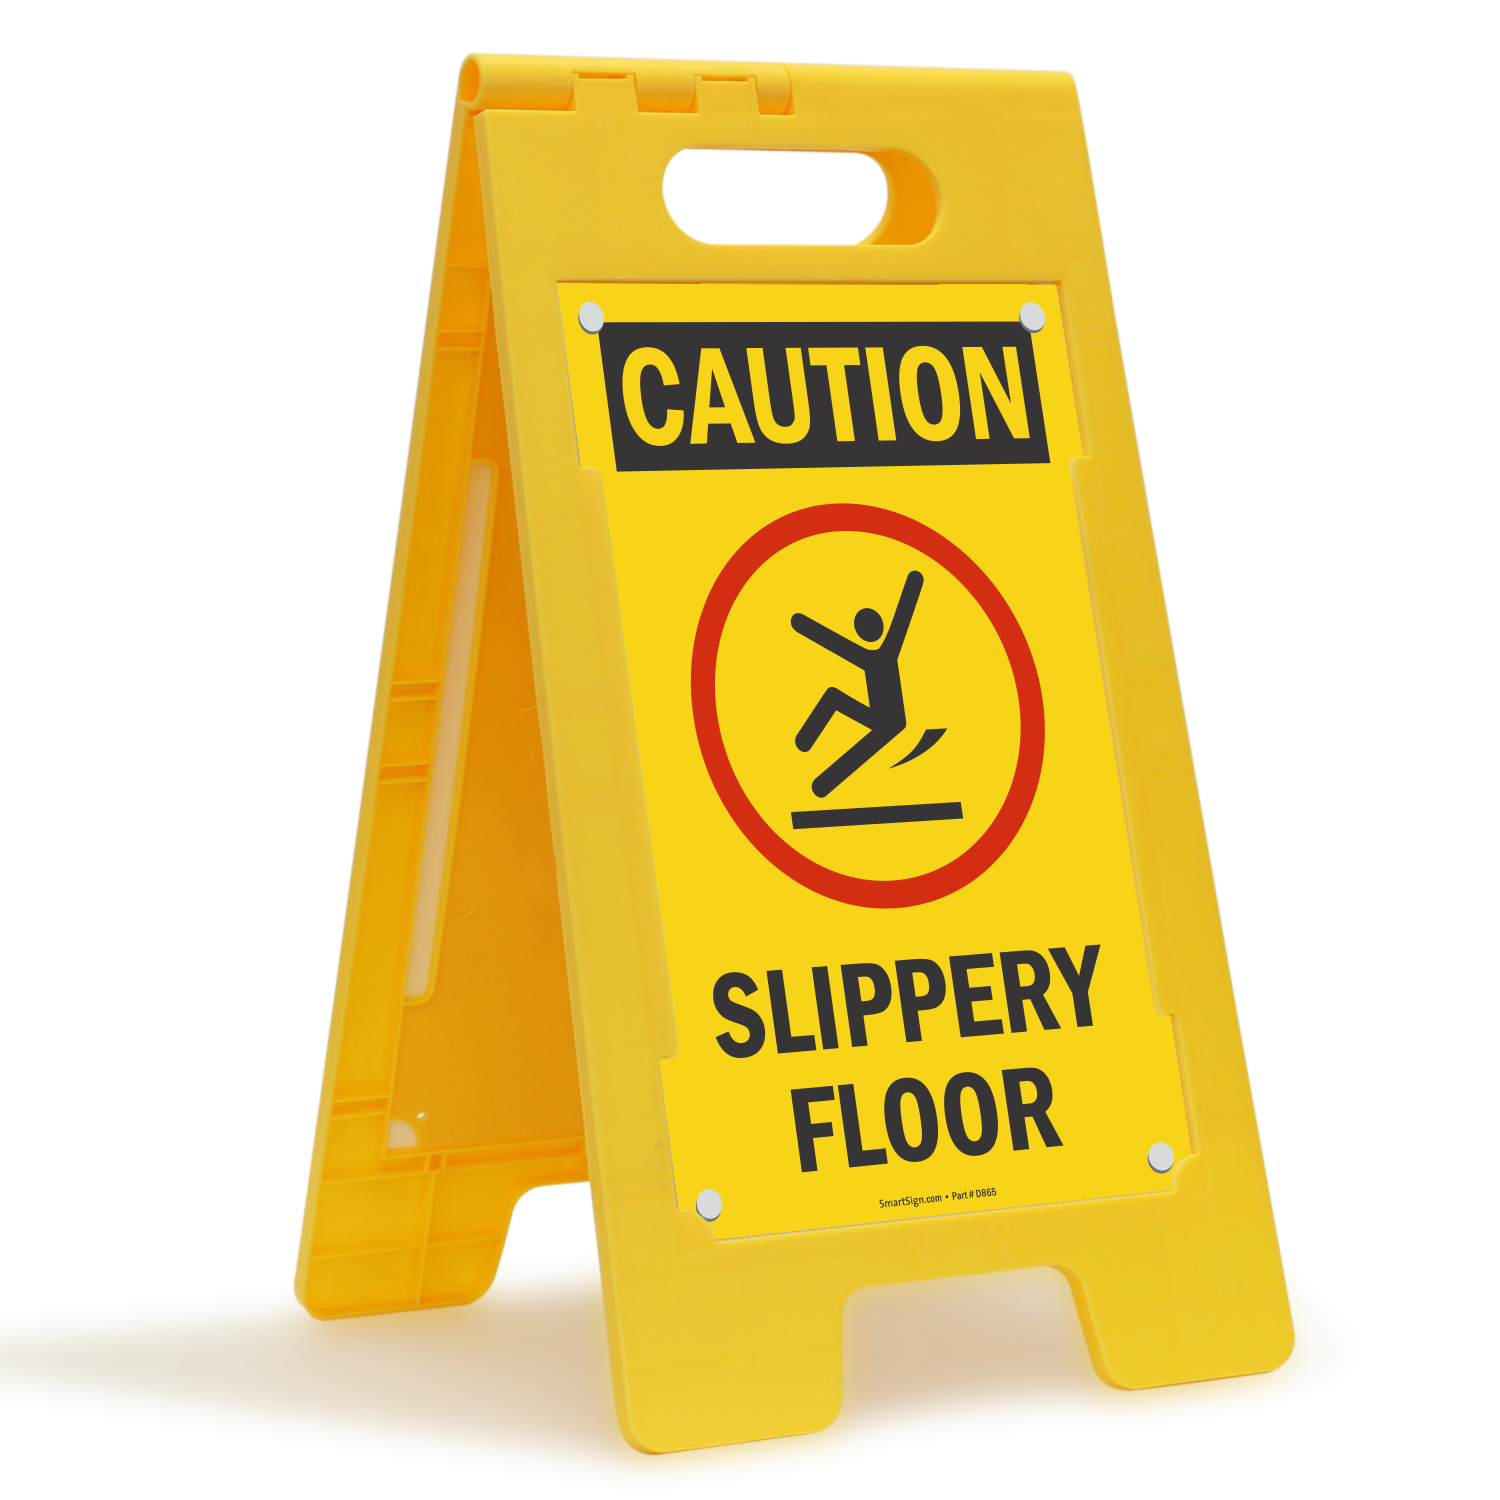wet caution sign: (245, 0, 1330, 1404)
